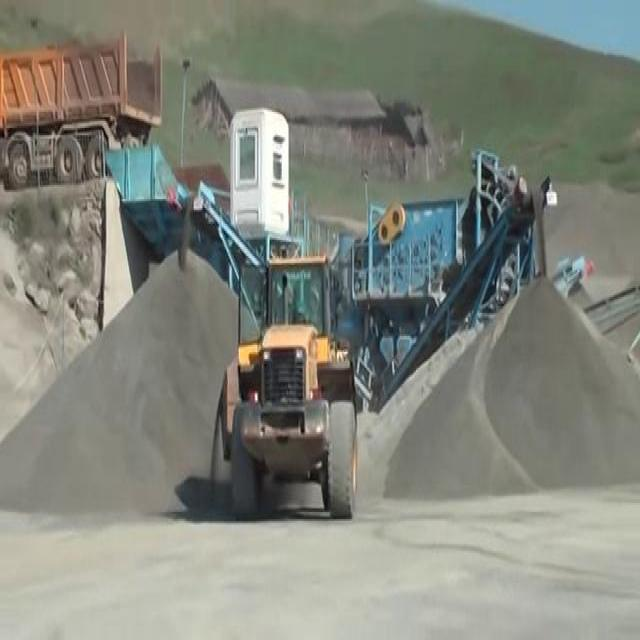Dump Truck: (0, 27, 163, 192)
Loader: (221, 252, 357, 521)
